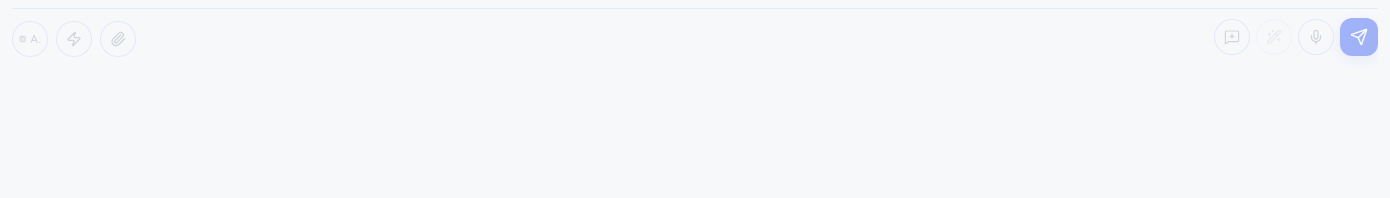
ChatInputActionsRow compact pickers › still shows 模型管理 when no models are configured
Click the button with class "lucide-cpu" at (30, 39), box top-left (12, 21), bottom-right (48, 57)
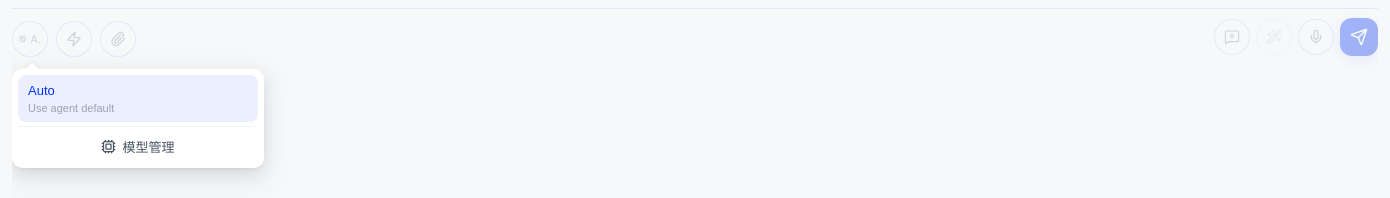
Result: the text "模型管理" is shown at top-left (122, 137), bottom-right (174, 156)
